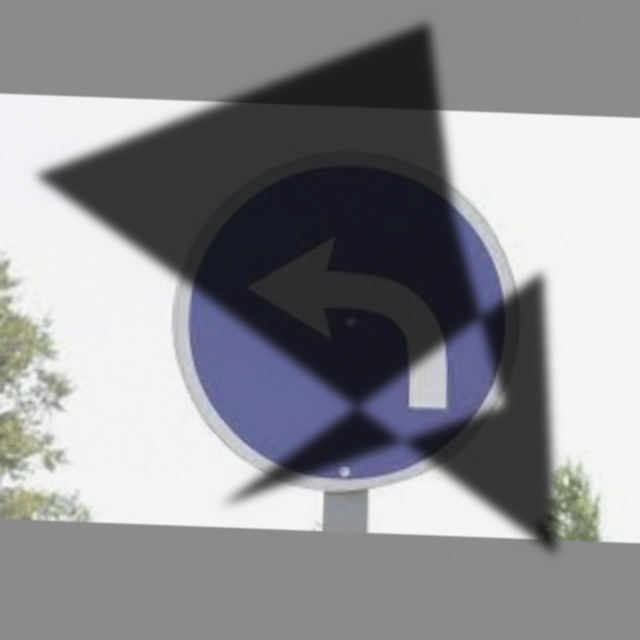Compulsory_Turn_Left_Ahead: (173, 142, 522, 495)
